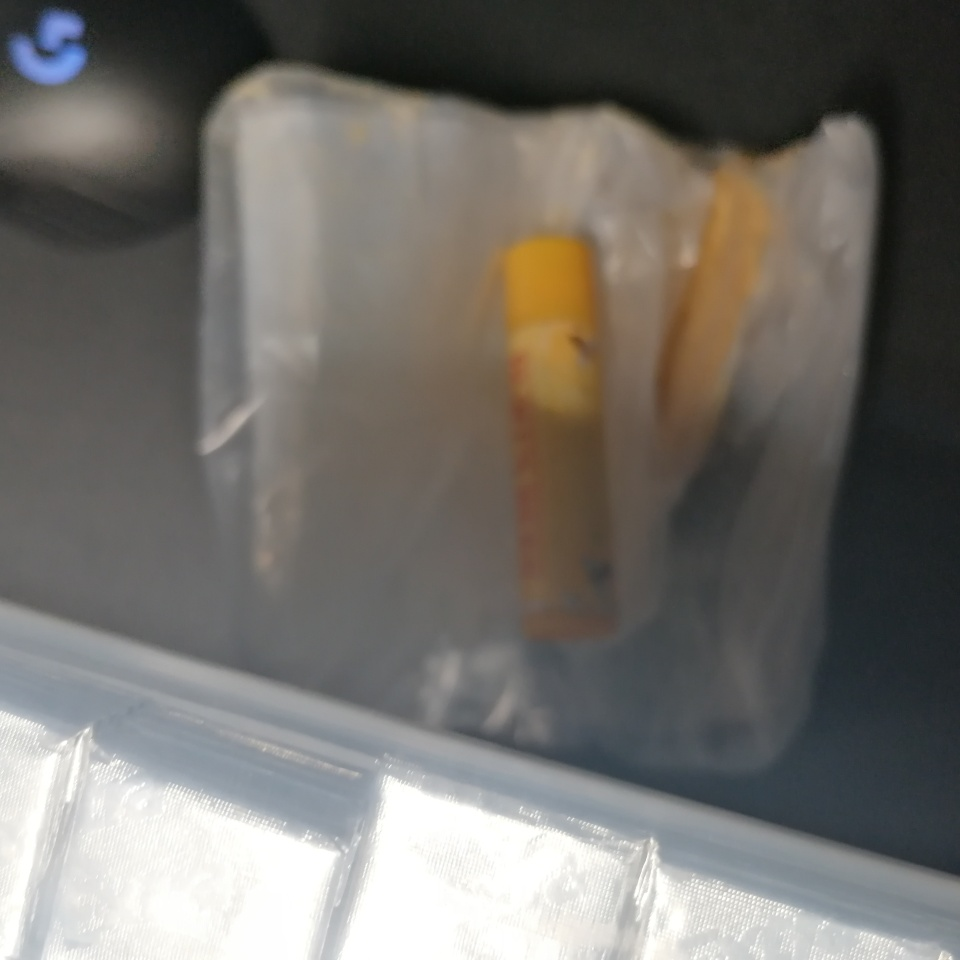chapstick: (501, 235, 628, 644)
